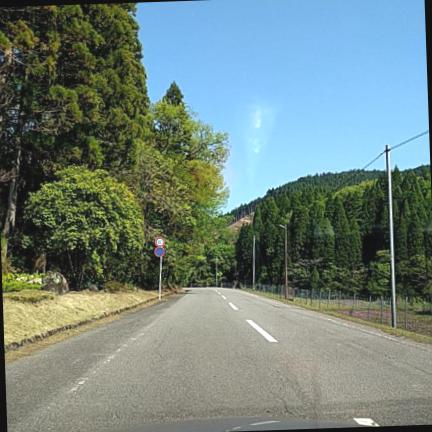Road: (5, 289, 431, 431)
